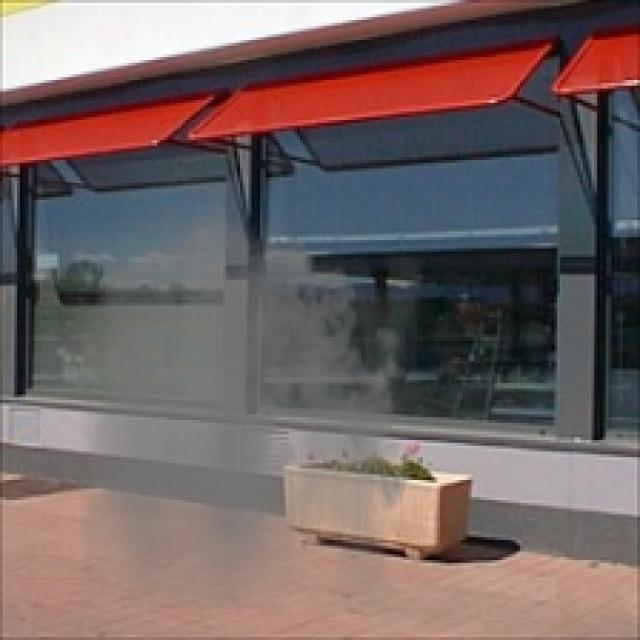smoke: (80, 186, 423, 608)
